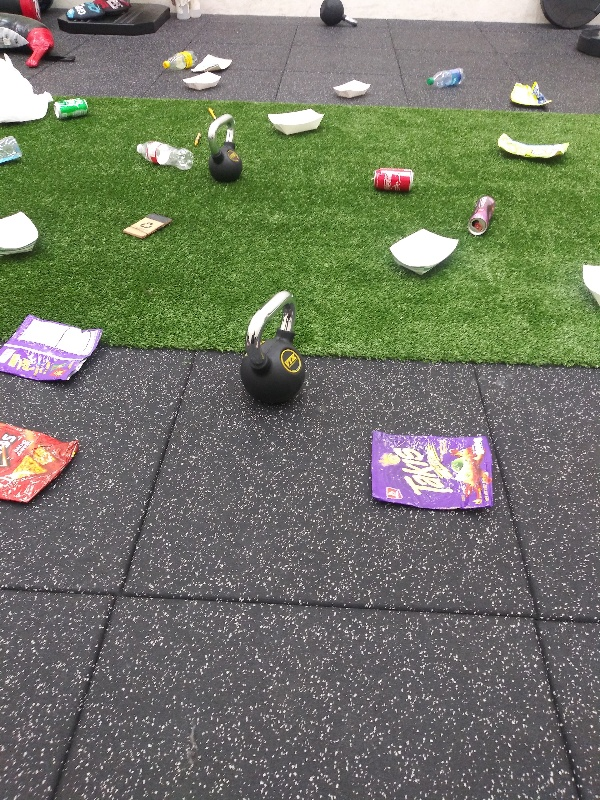bag: (365, 428, 505, 514), (1, 313, 110, 387), (1, 419, 84, 509), (494, 130, 572, 162), (508, 80, 557, 108), (190, 52, 236, 74)
bottle: (135, 138, 196, 174), (425, 64, 467, 89), (161, 46, 199, 72), (1, 133, 24, 171)
can: (464, 192, 500, 238), (366, 165, 419, 196), (50, 93, 94, 120)
plate: (384, 226, 462, 277), (1, 209, 42, 261), (268, 105, 325, 136), (330, 76, 376, 104), (576, 260, 600, 310), (181, 69, 224, 92)
